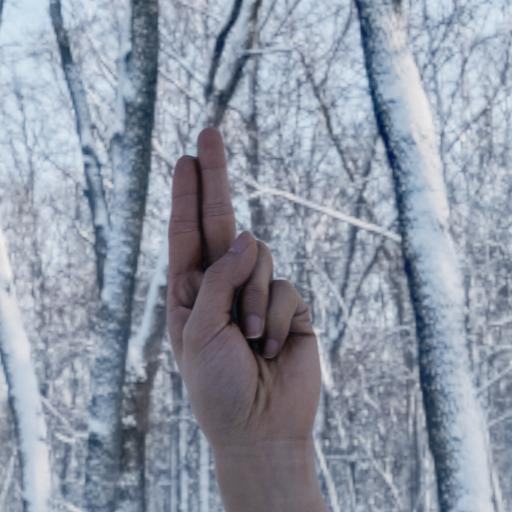U: (144, 91, 348, 464)
